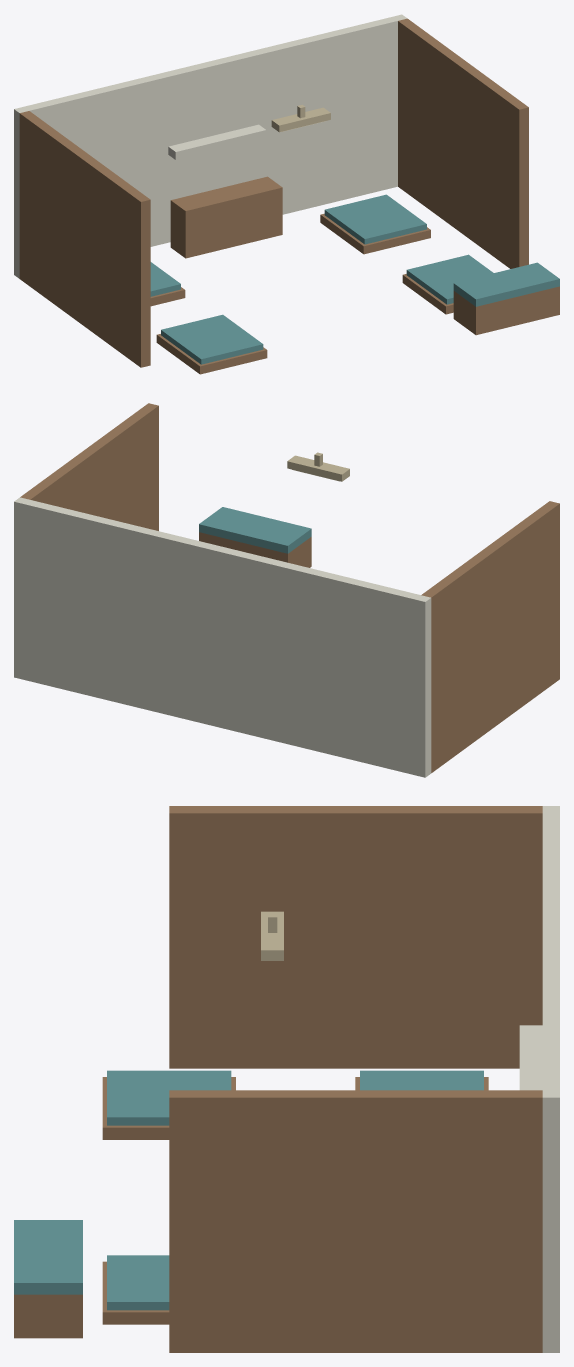
Rendered from quiet_meditation_r002.glb.
3 views of the same model, one above another, from view 1: azimuth 30°, elevation 25°; view 2: azimuth 150°, elevation 25°; view 3: azimuth 270°, elevation 25° (orthographic). The views are drawn at different scales.
Parts seen in each view (by area): view 1: G2Q_quiet_meditation_QuietBacking, G2Q_quiet_meditation_WestAcousticSide, G2Q_quiet_meditation_EastAcousticSide, G2Q_quiet_meditation_PersonalClosedStore, G2Q_quiet_meditation_QuietSeat, G2Q_quiet_meditation_SoftRest1, G2Q_quiet_meditation_SoftRest2, G2Q_quiet_meditation_QuietSeatPad, G2Q_quiet_meditation_SoftRest3, G2Q_quiet_meditation_NeutralFocusShelf, G2Q_quiet_meditation_RestSupport2, G2Q_quiet_meditation_RestSupport1 (+3 smaller); view 2: G2Q_quiet_meditation_QuietBacking, G2Q_quiet_meditation_WestAcousticSide, G2Q_quiet_meditation_EastAcousticSide, G2Q_quiet_meditation_QuietSeatPad, G2Q_quiet_meditation_QuietSeat, G2Q_quiet_meditation_QuietLightBody; view 3: G2Q_quiet_meditation_EastAcousticSide, G2Q_quiet_meditation_WestAcousticSide, G2Q_quiet_meditation_QuietBacking, G2Q_quiet_meditation_QuietSeatPad, G2Q_quiet_meditation_SoftRest2, G2Q_quiet_meditation_SoftRest3, G2Q_quiet_meditation_QuietSeat, G2Q_quiet_meditation_SoftRest0, G2Q_quiet_meditation_NeutralFocusShelf, G2Q_quiet_meditation_RestSupport2, G2Q_quiet_meditation_RestSupport3, G2Q_quiet_meditation_QuietLightBody.
Boxes of the visible parts, box(x1,y1,x2,y2) form: G2Q_quiet_meditation_QuietBacking: box(14, 14, 407, 278); G2Q_quiet_meditation_WestAcousticSide: box(19, 111, 150, 367); G2Q_quiet_meditation_EastAcousticSide: box(398, 18, 528, 268); G2Q_quiet_meditation_PersonalClosedStore: box(170, 176, 282, 258); G2Q_quiet_meditation_QuietSeat: box(453, 286, 559, 335); G2Q_quiet_meditation_SoftRest1: box(324, 194, 426, 244); G2Q_quiet_meditation_SoftRest2: box(161, 314, 263, 364); G2Q_quiet_meditation_QuietSeatPad: box(453, 262, 559, 306); G2Q_quiet_meditation_SoftRest3: box(406, 254, 493, 304); G2Q_quiet_meditation_NeutralFocusShelf: box(168, 124, 266, 159); G2Q_quiet_meditation_RestSupport2: box(156, 334, 267, 374); G2Q_quiet_meditation_RestSupport1: box(320, 213, 430, 254); G2Q_quiet_meditation_QuietBacking: box(14, 497, 431, 777); G2Q_quiet_meditation_WestAcousticSide: box(421, 501, 559, 772); G2Q_quiet_meditation_EastAcousticSide: box(20, 403, 158, 530); G2Q_quiet_meditation_QuietSeatPad: box(199, 507, 311, 553); G2Q_quiet_meditation_QuietSeat: box(199, 532, 311, 567); G2Q_quiet_meditation_QuietLightBody: box(287, 455, 349, 481); G2Q_quiet_meditation_EastAcousticSide: box(169, 1090, 542, 1352); G2Q_quiet_meditation_WestAcousticSide: box(169, 806, 542, 1068); G2Q_quiet_meditation_QuietBacking: box(542, 806, 559, 1352); G2Q_quiet_meditation_QuietSeatPad: box(14, 1220, 82, 1294); G2Q_quiet_meditation_SoftRest2: box(107, 1070, 231, 1125); G2Q_quiet_meditation_SoftRest3: box(107, 1255, 169, 1310); G2Q_quiet_meditation_QuietSeat: box(14, 1294, 82, 1338); G2Q_quiet_meditation_SoftRest0: box(360, 1070, 483, 1090); G2Q_quiet_meditation_NeutralFocusShelf: box(519, 1025, 542, 1090); G2Q_quiet_meditation_RestSupport2: box(102, 1077, 235, 1139); G2Q_quiet_meditation_RestSupport3: box(102, 1261, 169, 1324); G2Q_quiet_meditation_QuietLightBody: box(261, 911, 283, 960).
Bounding box in the file's own units: 6 × 2.8 × 4.75.
